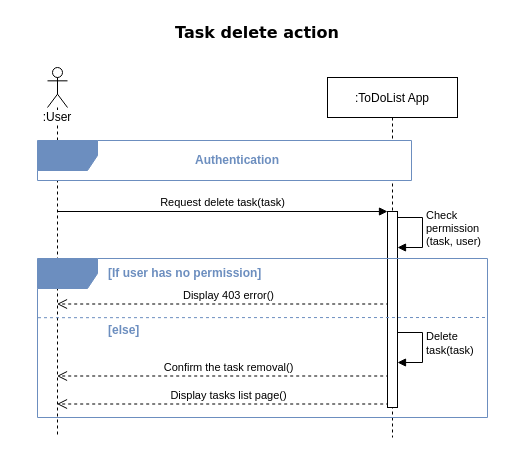
This 514x455 diagram has some shape labels left out. Here are the shapes that lost their labels. From the top down, the box of each, then its label:
(36, 140, 412, 180): ref
(36, 258, 488, 418): alt
